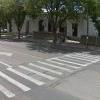Crosswalk: (2, 52, 99, 91)
